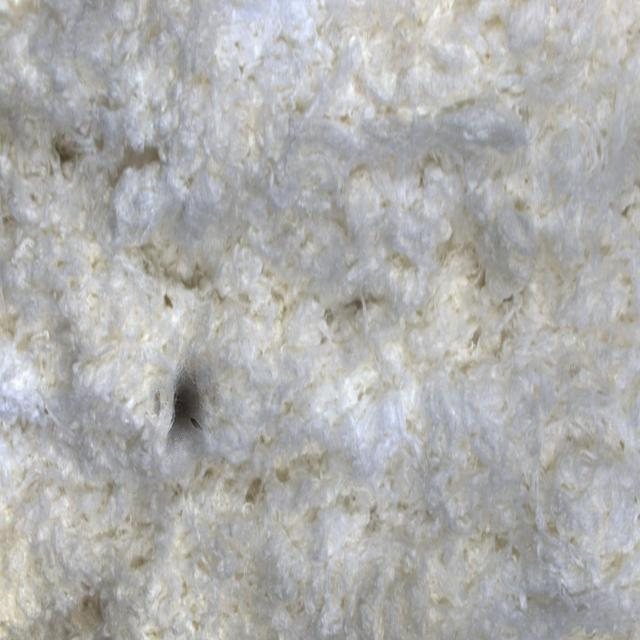dust: (133, 331, 249, 476)
